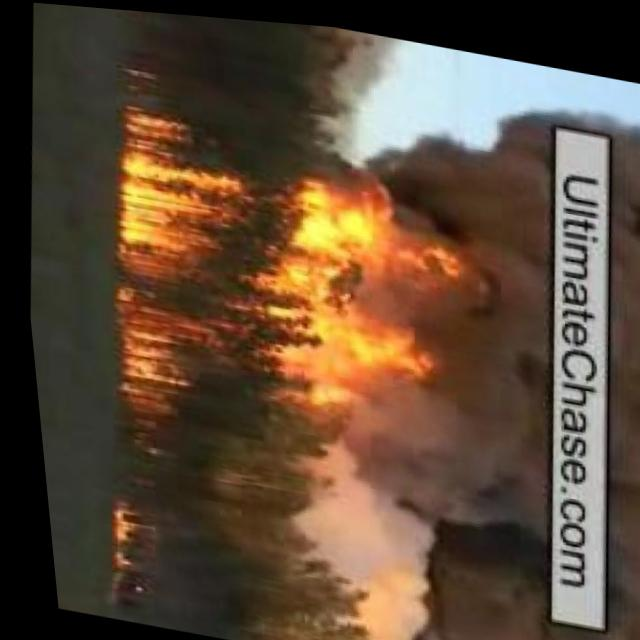Fire: (249, 159, 495, 437), (89, 113, 266, 439), (93, 488, 151, 583)
